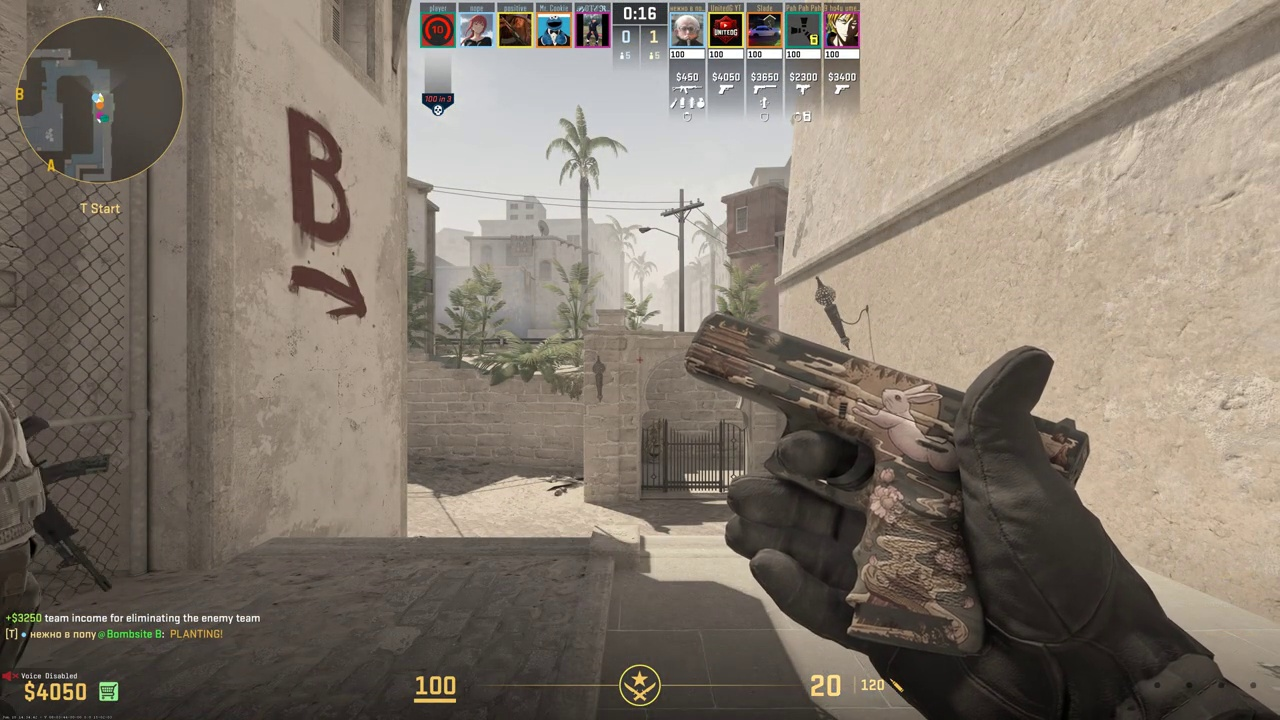Terrorist: (0, 381, 48, 719)
